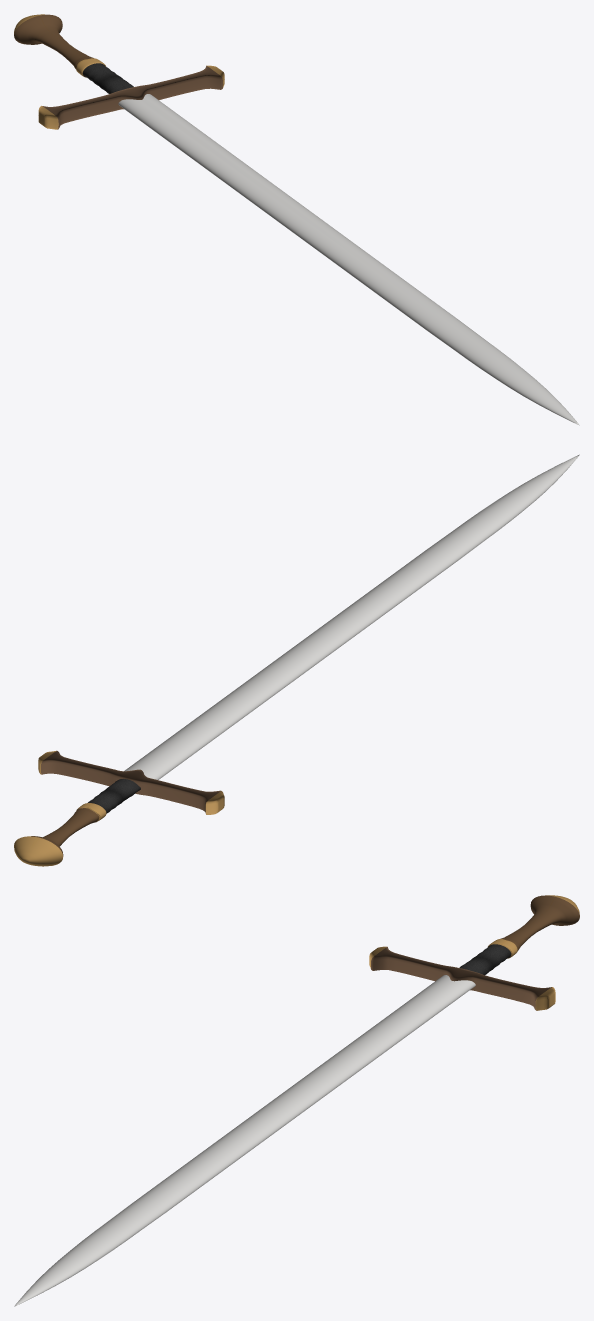
File: Sword.fbx
The picture shows the model from 3 angles, top to bottom: view 1: azimuth 30°, elevation 25°; view 2: azimuth 150°, elevation 25°; view 3: azimuth 330°, elevation 25°; orthographic projection.
Parts seen in each view (by area): view 1: Cylinder; view 2: Cylinder; view 3: Cylinder.
Boxes of the visible parts, bbox=[...] form: Cylinder: bbox=[14, 14, 579, 425]; Cylinder: bbox=[14, 454, 579, 866]; Cylinder: bbox=[14, 895, 579, 1306].
Size of the model in its own units: 34.48 by 5.06 by 184.
1 material, 1 textured.
